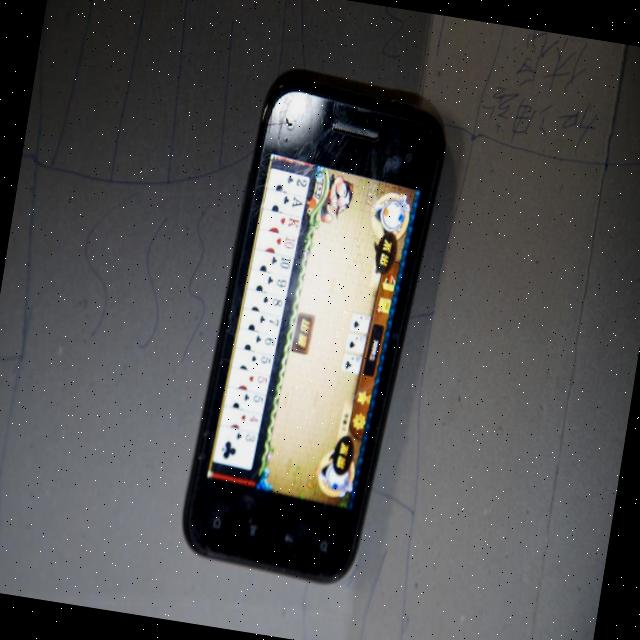Phone: (166, 61, 469, 600)
